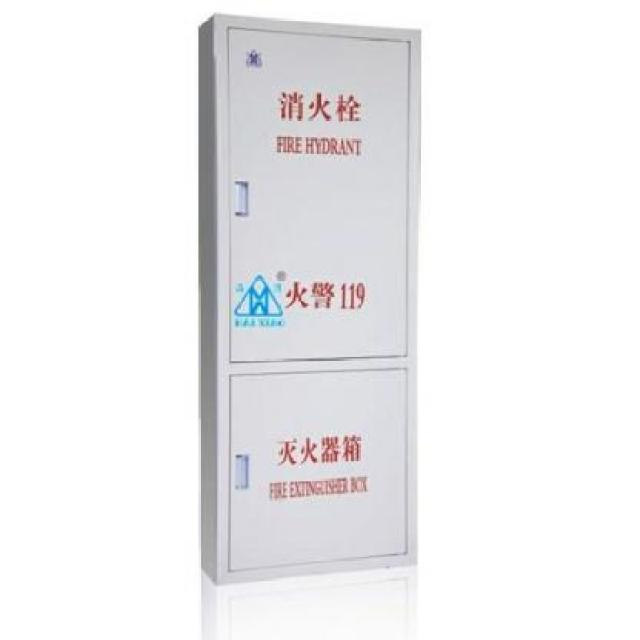firehydrant: (192, 8, 425, 590)
